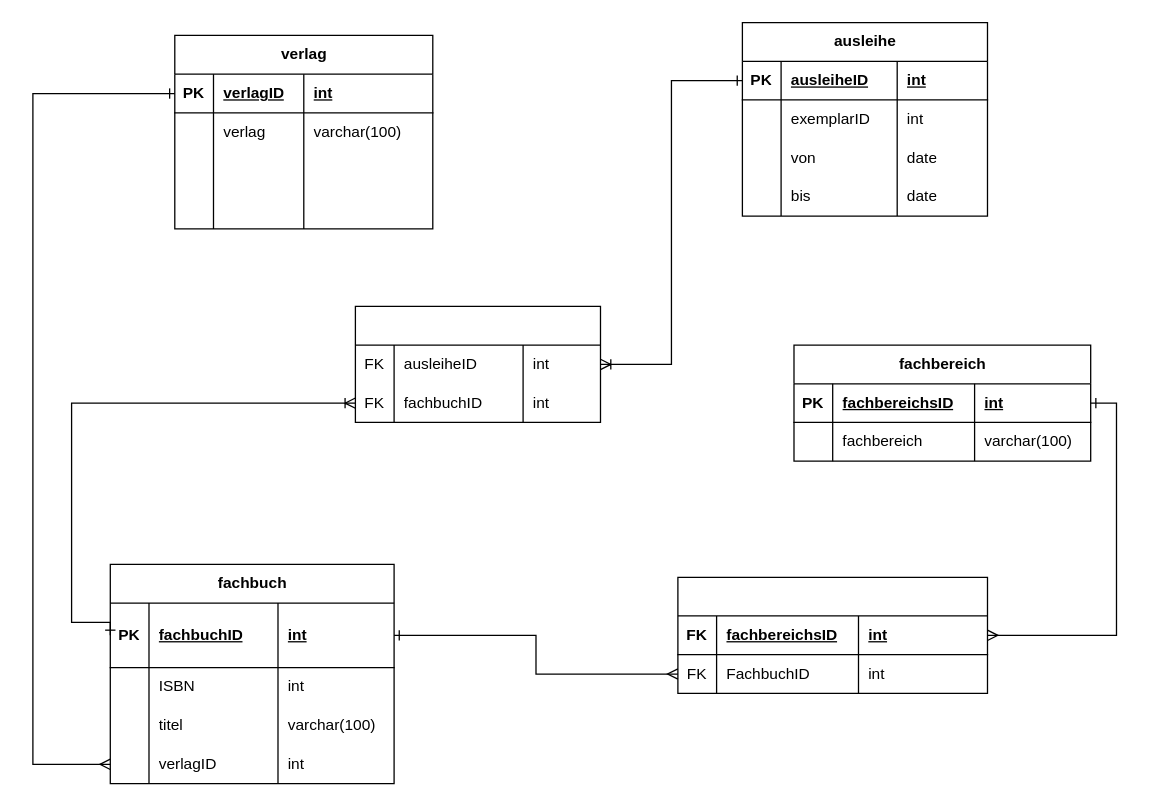
This 1151x806 diagram has some shape labels left out. Each missing label, with the box of its shape:
ausleihe_fachbuch: (354, 305, 600, 422)
fachbereichfachbuch: (677, 576, 987, 693)
